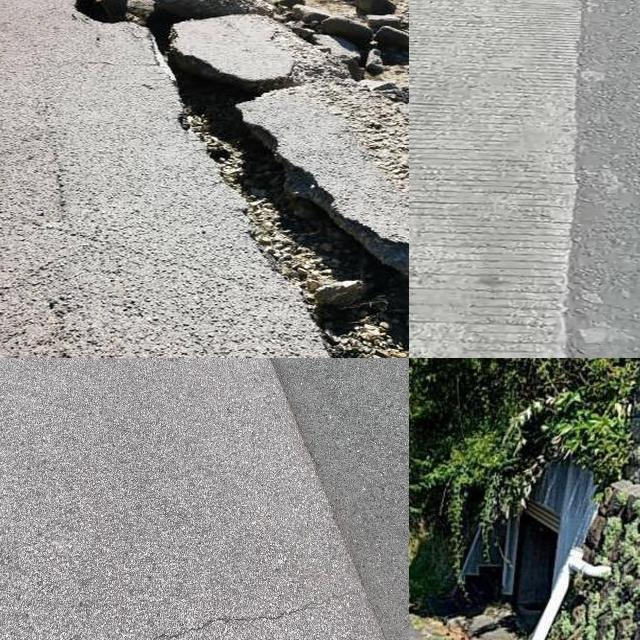Melintang: (10, 581, 372, 640)
Pinggir: (54, 0, 409, 358)
Sambungan: (409, 0, 583, 358), (271, 358, 409, 640)
